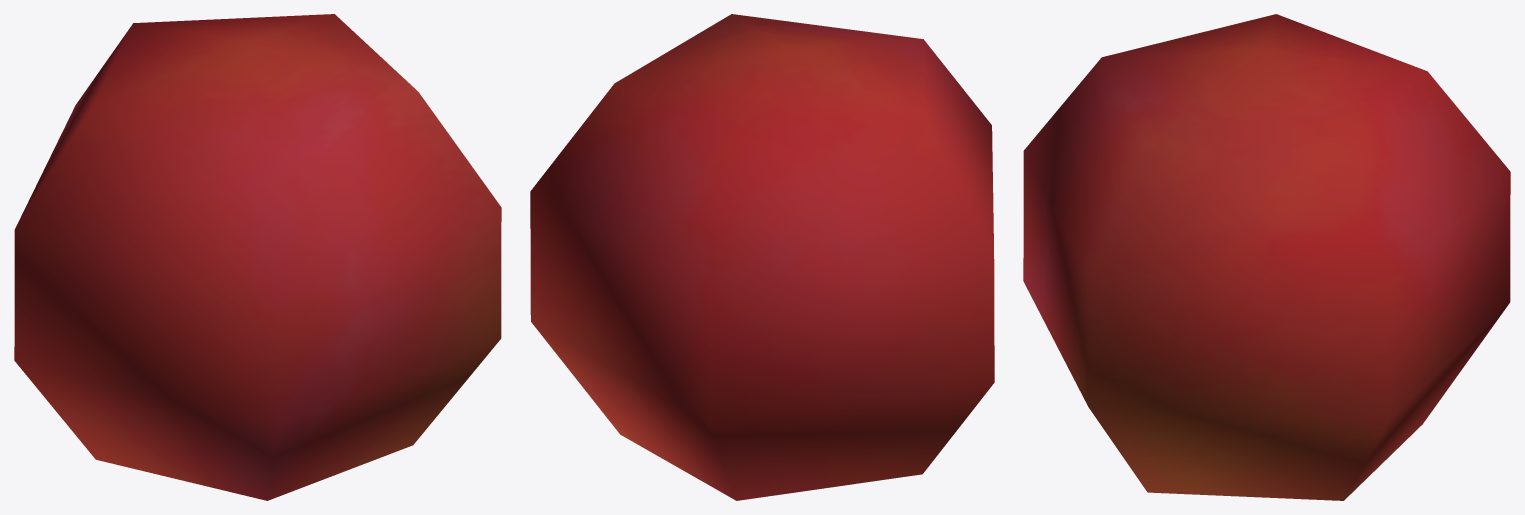
Rendered from Item_Apple.fbx.
The picture shows the model from 3 angles, left to right: view 1: azimuth 30°, elevation 25°; view 2: azimuth 150°, elevation 25°; view 3: azimuth 270°, elevation 25°; orthographic projection.
Parts seen in each view (by area): view 1: Item_Apple; view 2: Item_Apple; view 3: Item_Apple.
Boxes of the visible parts, x1,y1,x2,y2 form: Item_Apple: (14, 14, 501, 500); Item_Apple: (530, 14, 994, 500); Item_Apple: (1023, 14, 1510, 500).
Size of the model in its own units: 20.64 by 20.3 by 21.02.
